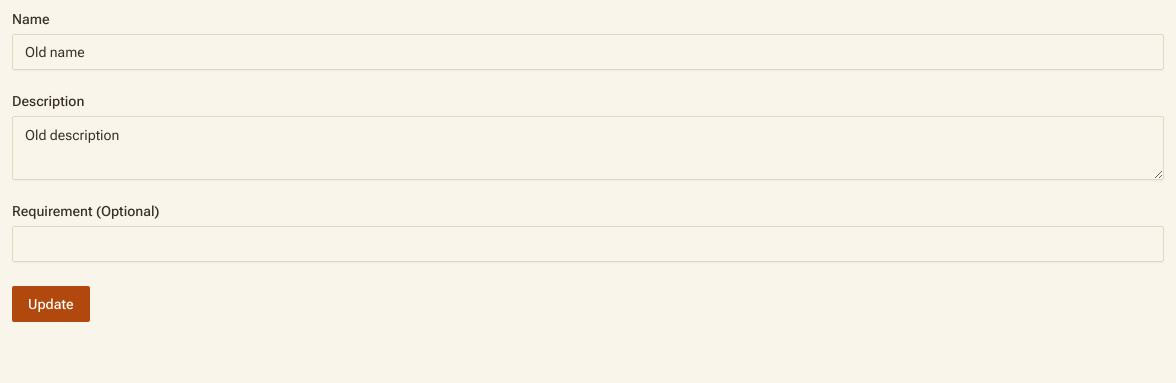
it: background builder editing=true › retains the draft with one actionable error and no automatic retry/navigation
Replace the text in the field labelled "Name" with " Stargazer " at (588, 52), box [12, 34, 1164, 70]
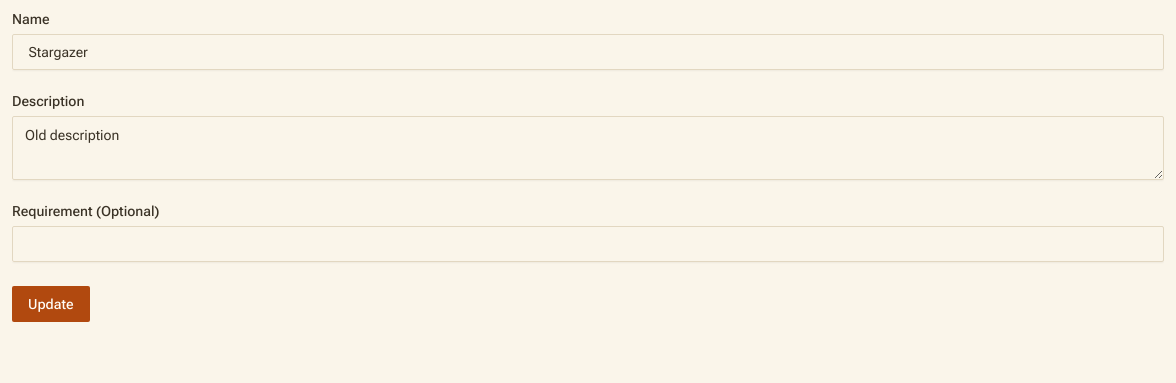
Replace the text in the text box labelled "Description" with " Read the stars. " at (588, 148), box [12, 116, 1164, 180]
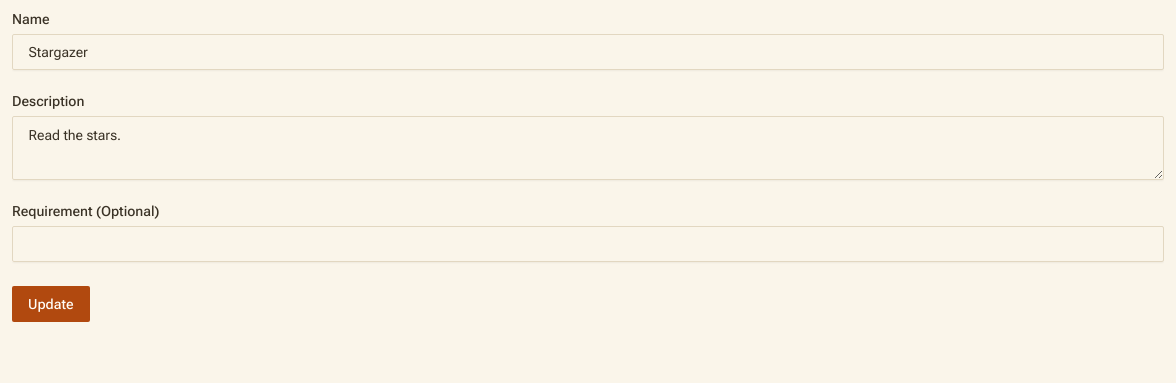
Type " Wits 2 " into the field labelled "Requirement (Optional)" at (588, 244), box [12, 226, 1164, 262]
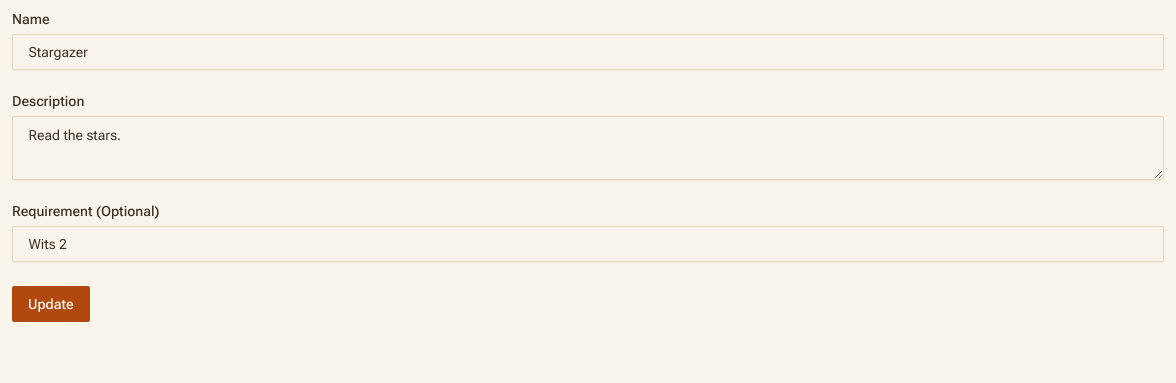
Click the button "Update" at (51, 304), box [12, 286, 90, 322]
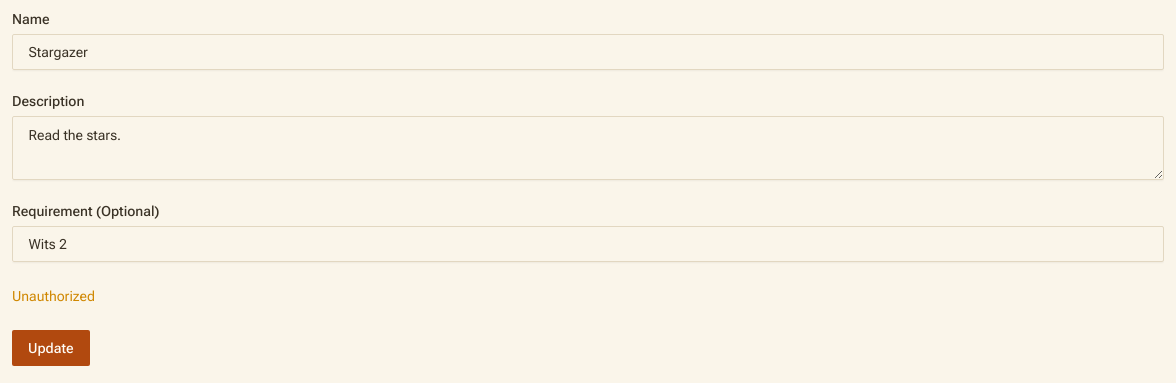
Expected: the button "Update" is enabled, [12, 330, 90, 366]
Expected: the message reads "Unauthorized", [12, 288, 95, 304]
